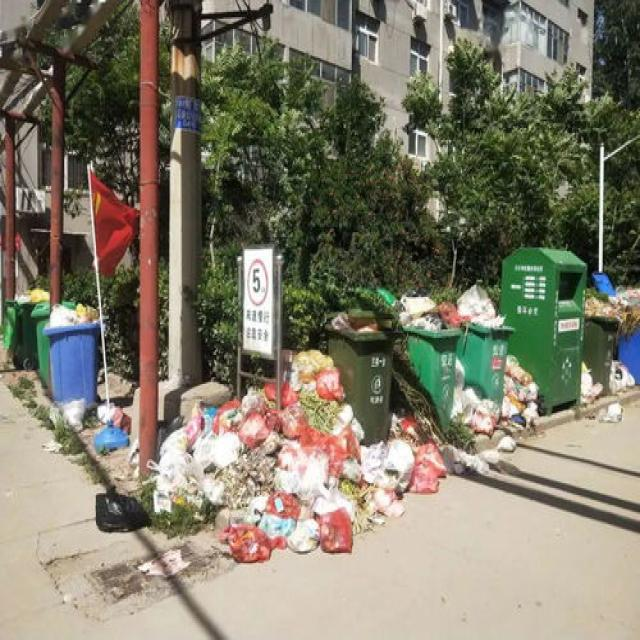garbage: (83, 348, 538, 572), (580, 358, 632, 422), (49, 391, 83, 432)
overflow: (324, 307, 389, 444), (398, 294, 461, 432), (458, 284, 516, 404), (41, 300, 101, 400), (580, 288, 613, 396), (2, 285, 48, 360), (612, 285, 637, 381)
